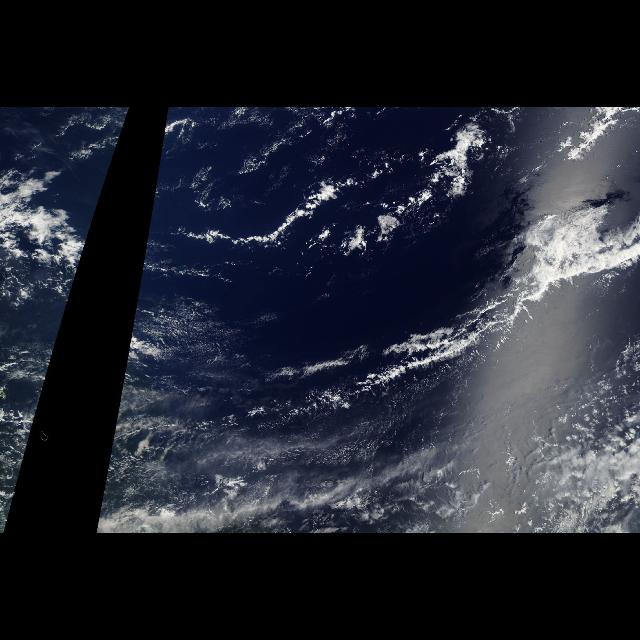Fish: (175, 118, 640, 410)
